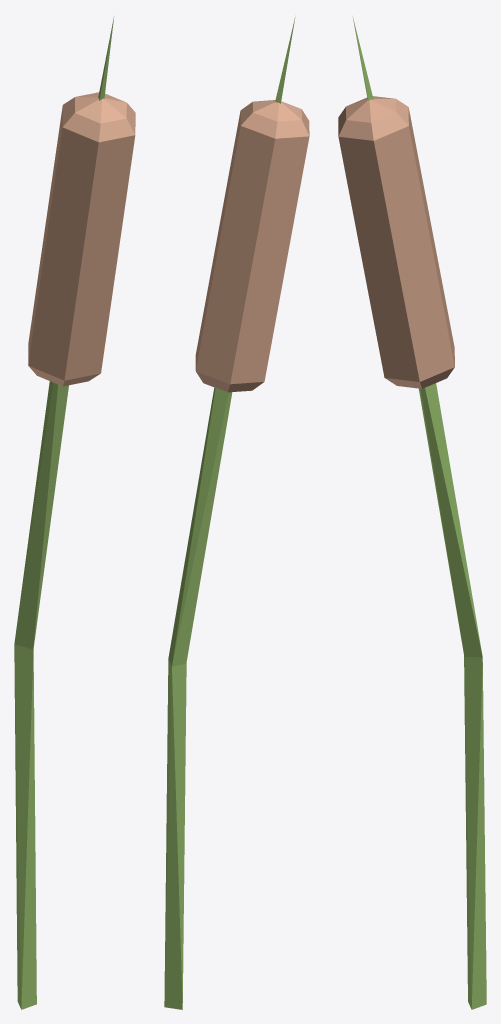
The model's file is Hilly_Prop_Cattail_1.glb.
The picture shows the model from 3 angles, left to right: view 1: azimuth 90°, elevation 25°; view 2: azimuth 150°, elevation 25°; view 3: azimuth 330°, elevation 25°; orthographic projection. The views are drawn at different scales.
Visible parts, largest first — view 1: Hilly_Prop_Cattail_1; view 2: Hilly_Prop_Cattail_1; view 3: Hilly_Prop_Cattail_1.
Part boxes in pixels (x1=…): Hilly_Prop_Cattail_1: x1=14, y1=16, x2=135, y2=1009; Hilly_Prop_Cattail_1: x1=164, y1=17, x2=309, y2=1009; Hilly_Prop_Cattail_1: x1=338, y1=16, x2=486, y2=1009.
Bounding box in the file's own units: 0.0229 × 0.1975 × 0.0211.
